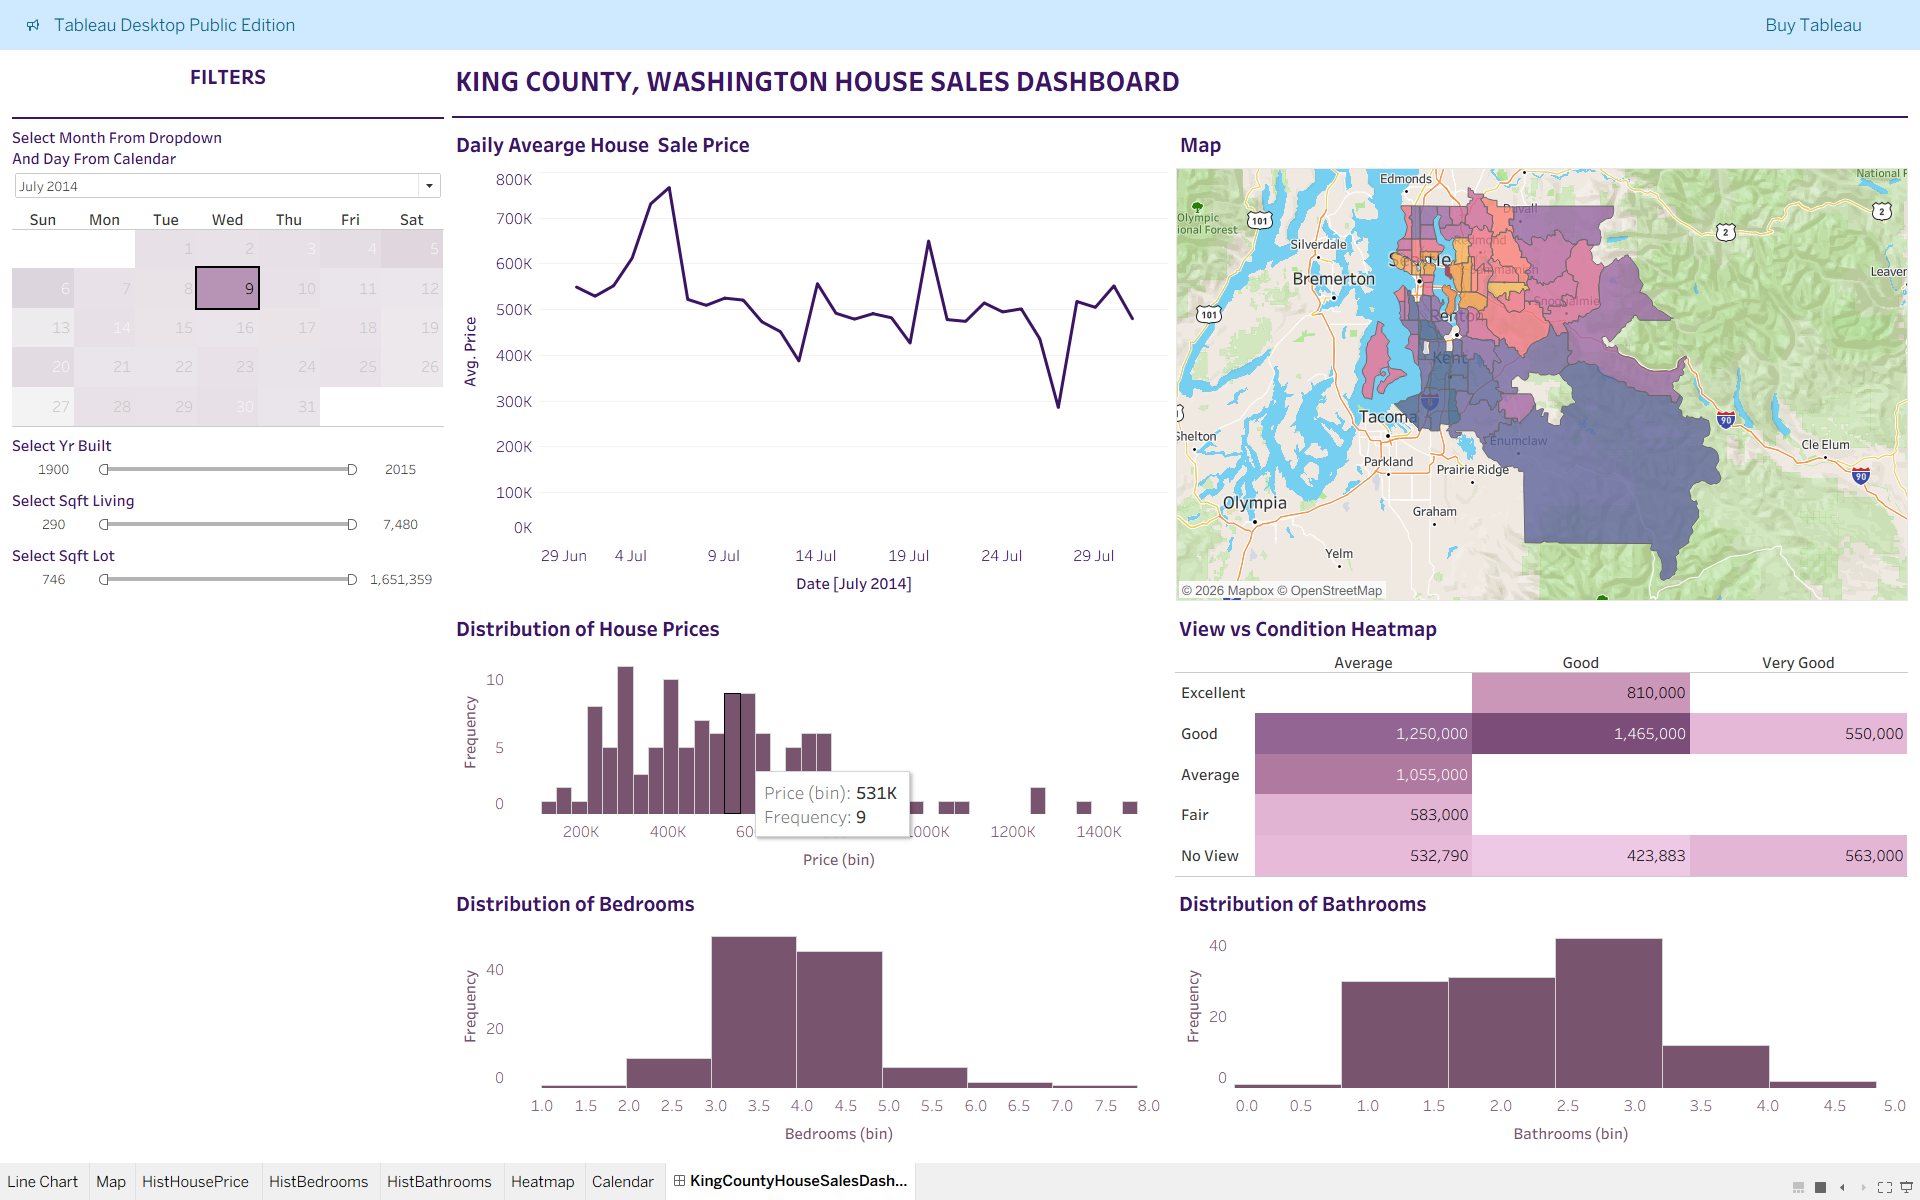

The dashboard page shown, as its layout file describes it:
{"tool":"tableau","page":{"name":"KingCountyHouseSalesDashboard","canvas":[1000,1000],"units":"permille","ordinal":0},"visuals":[{"type":"text","box":[4.8,8.7,228.7,38]},{"type":"text","box":[233.6,8.7,761.6,48.8]},{"type":"blank","box":[233.6,57.5,761.6,10.9]},{"type":"blank","box":[4.8,57.6,228.7,10.9]},{"type":"filter","title":"Calendar","param":"[federated.15cl23k0on216i1fiawh91s3xi3e].[my:date:ok]","box":[4.8,68.4,228.7,89]},{"type":"worksheet","title":"Line Chart","mark":"Automatic","rows":["price"],"cols":["date"],"box":[233.6,68.4,376.3,431.1]},{"type":"worksheet","title":"Map","mark":"Automatic","box":[609.8,68.4,385.3,431.1]},{"type":"worksheet","title":"Calendar","mark":"Square","rows":["date"],"cols":["date"],"box":[4.8,157.5,228.7,245.4]},{"type":"filter","title":"Calendar","param":"[federated.15cl23k0on216i1fiawh91s3xi3e].[none:yr_built:qk]","box":[4.8,402.8,228.7,59.7]},{"type":"filter","title":"Calendar","param":"[federated.15cl23k0on216i1fiawh91s3xi3e].[none:sqft_living:qk]","box":[4.8,462.6,228.7,59.7]},{"type":"worksheet","title":"HistHousePrice","mark":"Automatic","rows":["price"],"cols":["Price (bin)"],"box":[233.6,499.5,376,246.2]},{"type":"worksheet","title":"Heatmap","mark":"Square","rows":["view"],"cols":["condition"],"box":[609.5,499.5,385.6,246.2]},{"type":"filter","title":"Calendar","param":"[federated.15cl23k0on216i1fiawh91s3xi3e].[none:sqft_lot:qk]","box":[4.8,522.3,228.7,59.7]},{"type":"worksheet","title":"HistBedrooms","mark":"Automatic","rows":["bedrooms"],"cols":["Bedrooms (bin)"],"box":[233.6,745.7,376,245.7]},{"type":"worksheet","title":"HistBathrooms","mark":"Automatic","rows":["bathrooms"],"cols":["Bathrooms (bin)"],"box":[609.5,745.7,385.6,245.7]}]}

Visuals, with their boxes on the dashboard's canvas, which has no fixed pixel size, in thousandths of its width and height (x1, y1, x2, y2). These are canvas units, not pixel positions in the 1920x1200 screenshot, which may show the page scaled, cropped or inside an application window:
text: rect(5, 9, 234, 47)
text: rect(234, 9, 995, 58)
blank: rect(234, 58, 995, 68)
blank: rect(5, 58, 234, 68)
"Calendar" filter: rect(5, 68, 234, 157)
"Line Chart" worksheet: rect(234, 68, 610, 500)
"Map" worksheet: rect(610, 68, 995, 500)
"Calendar" worksheet (Square marks): rect(5, 158, 234, 403)
"Calendar" filter: rect(5, 403, 234, 462)
"Calendar" filter: rect(5, 463, 234, 522)
"HistHousePrice" worksheet: rect(234, 500, 610, 746)
"Heatmap" worksheet (Square marks): rect(610, 500, 995, 746)
"Calendar" filter: rect(5, 522, 234, 582)
"HistBedrooms" worksheet: rect(234, 746, 610, 991)
"HistBathrooms" worksheet: rect(610, 746, 995, 991)
